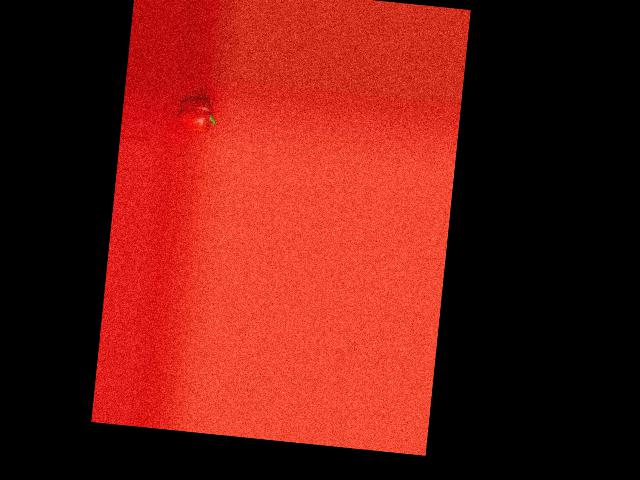bell_pepper: (174, 93, 219, 133)
